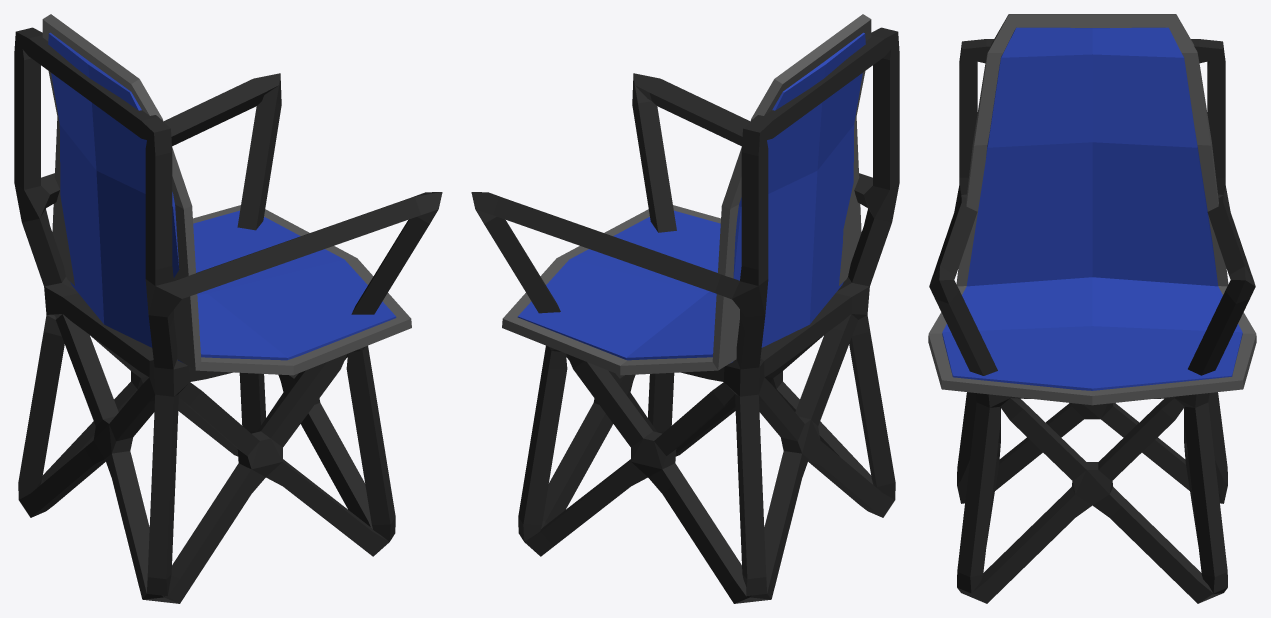
Rendered from FNG_LawnChait.fbx.
3 views of the same model, side by side, from view 1: azimuth 30°, elevation 25°; view 2: azimuth 150°, elevation 25°; view 3: azimuth 270°, elevation 25° (orthographic). The views are drawn at different scales.
Parts seen in each view (by area): view 1: Cube, Plane; view 2: Cube, Plane; view 3: Plane, Cube.
Boxes of the visible parts, <box> form: Cube: <box>14,27,442,603</box>; Plane: <box>42,14,411,375</box>; Cube: <box>471,27,899,603</box>; Plane: <box>502,14,871,375</box>; Plane: <box>928,14,1256,405</box>; Cube: <box>929,39,1255,603</box>.
Bounding box in the file's own units: 245 × 429 × 265.
